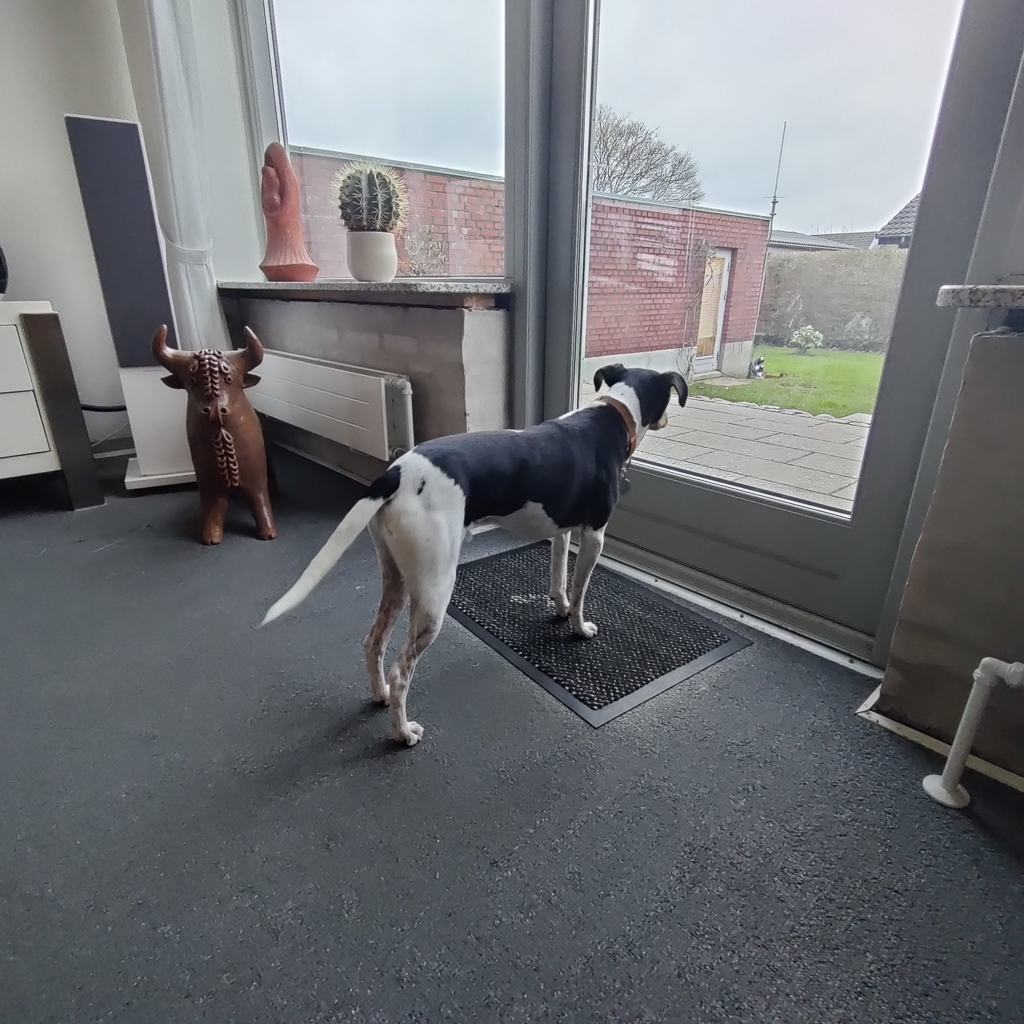Cattle: (142, 314, 294, 552)
Dog: (252, 348, 713, 762)
Humanoid: (249, 134, 321, 268), (740, 351, 771, 383)
